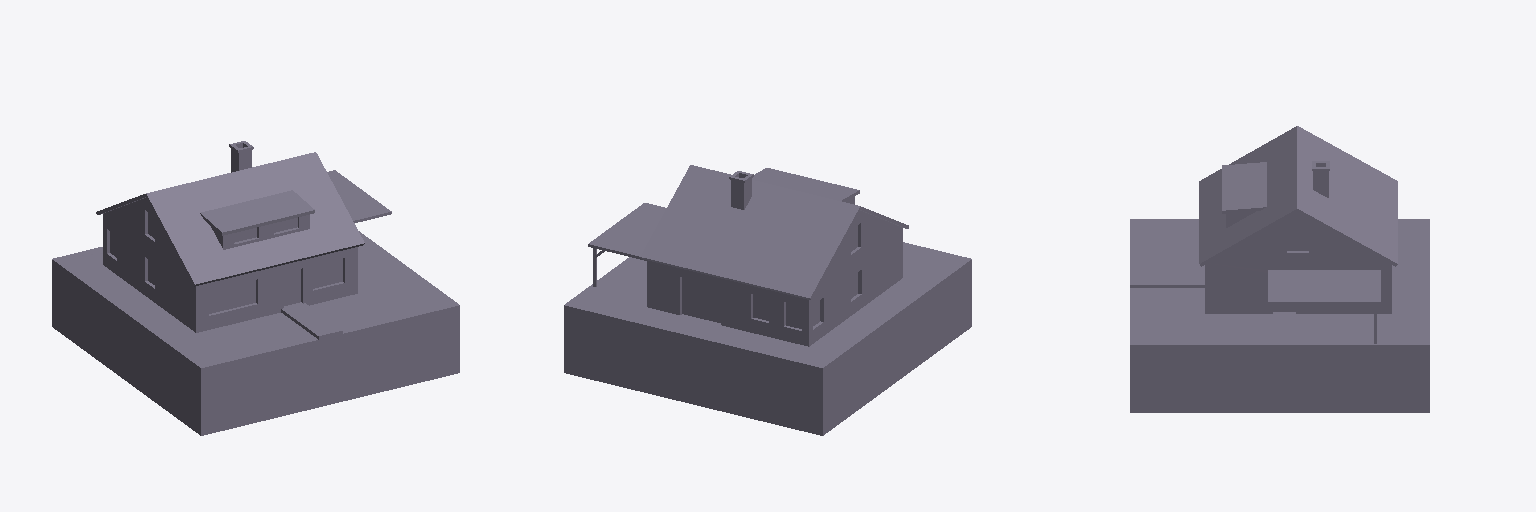
The model's file is house-small-carport-left.obj.
The picture shows the model from 3 angles: view 1: azimuth 30°, elevation 25°; view 2: azimuth 150°, elevation 25°; view 3: azimuth 270°, elevation 25°; orthographic projection.
Parts seen in each view (by area): view 1: house-small-carport-left_Cube.006; view 2: house-small-carport-left_Cube.006; view 3: house-small-carport-left_Cube.006.
Part boxes in pixels (bbox=[...]): house-small-carport-left_Cube.006: bbox=[52, 141, 459, 435]; house-small-carport-left_Cube.006: bbox=[564, 165, 971, 435]; house-small-carport-left_Cube.006: bbox=[1130, 126, 1429, 412].
Size of the model in its own units: 8 by 5.54 by 8.